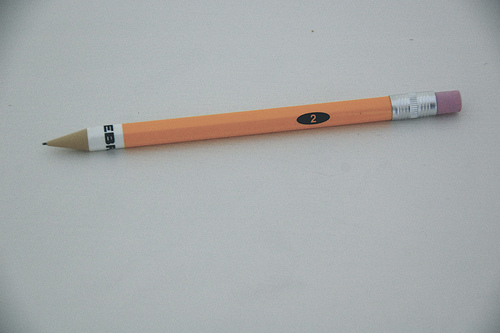pen_tip: (34, 122, 94, 165)
